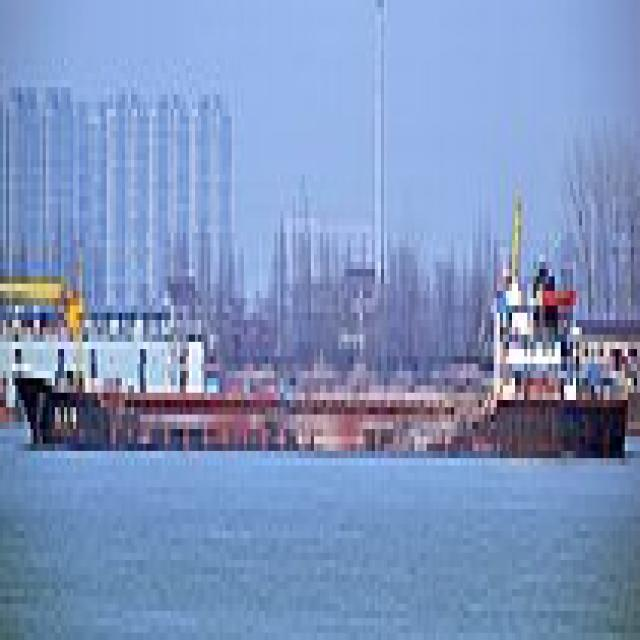Cargo: (6, 175, 625, 458)
